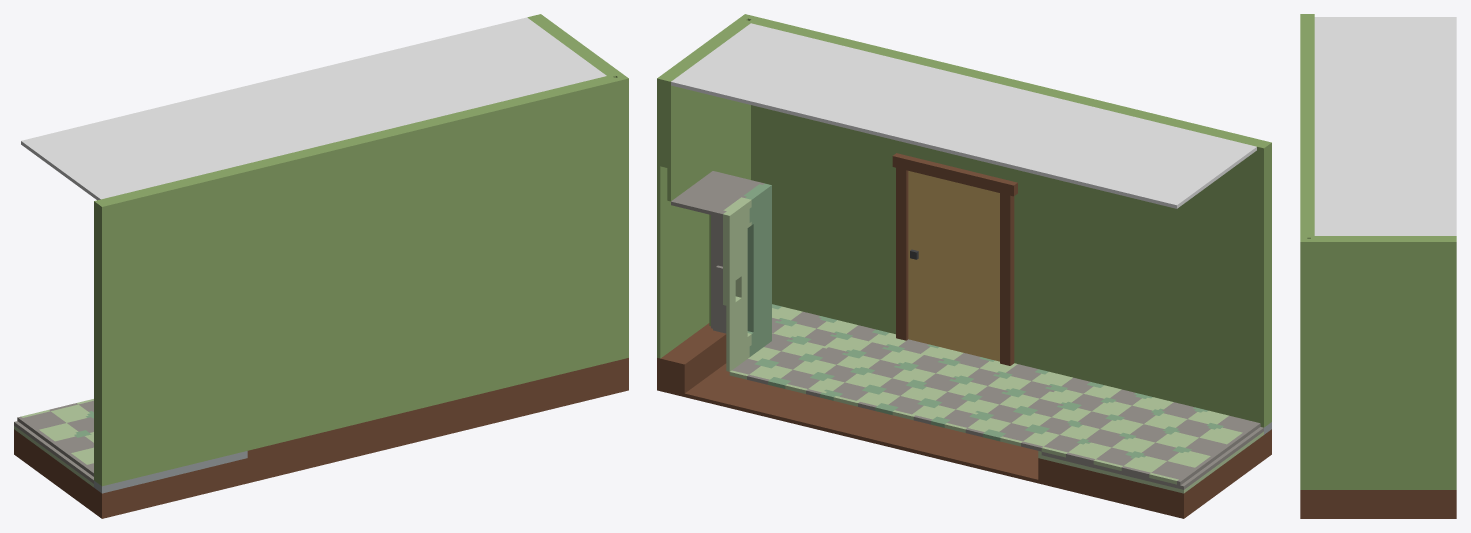
File: kitchen_119x63x200_26_colors-1.obj
The picture shows the model from 3 angles, left to right: view 1: azimuth 30°, elevation 25°; view 2: azimuth 150°, elevation 25°; view 3: azimuth 270°, elevation 25°; orthographic projection. The views are drawn at different scales.
Bounding box in the file's own units: 15.2 × 8.6 × 4.4.
Materials: 1 (1 with a texture image).
